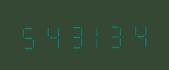five: (17, 21, 38, 50)
four: (39, 20, 60, 50), (128, 19, 149, 48)
one: (84, 20, 105, 49)
three: (62, 20, 83, 50), (106, 19, 127, 49)
